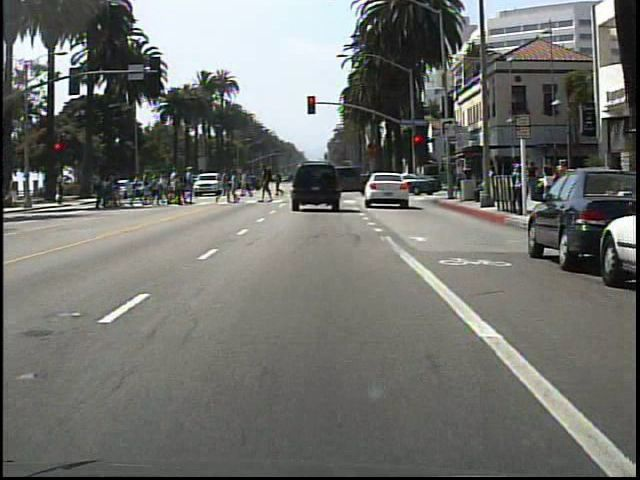person: (508, 160, 526, 216), (554, 155, 571, 200), (540, 155, 556, 199)
